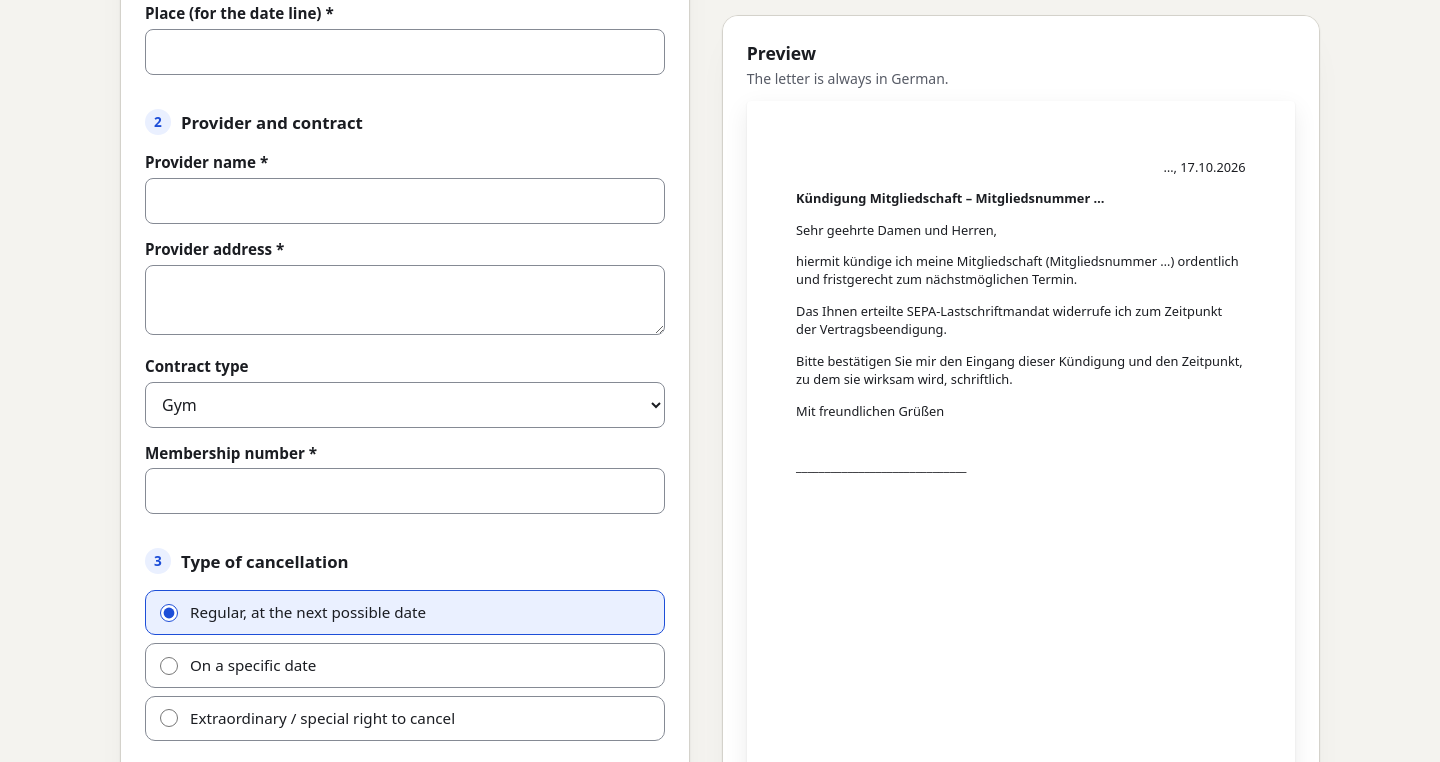
Test: names the contract number field after the contract type, in both languages
(page scrolled)
Check: the field labelled "Membership number" is shown, box [145,468,665,514]
Select "Insurance" in the dropdown labelled "Contract type" at x=405, y=405, box [145,382,665,428]
(page scrolled)
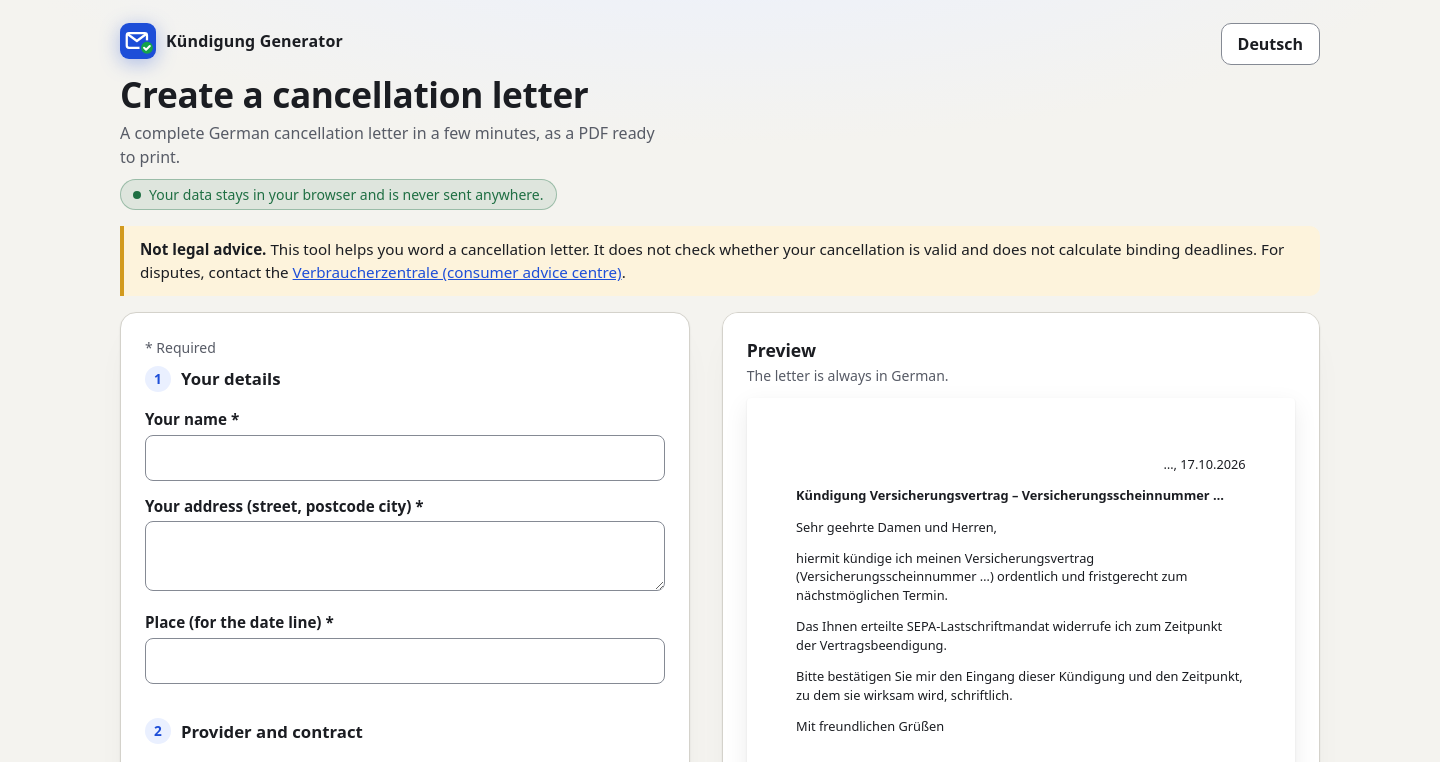
Click the button "Deutsch" at x=1270, y=44, box [1220,23,1320,65]
(page scrolled)
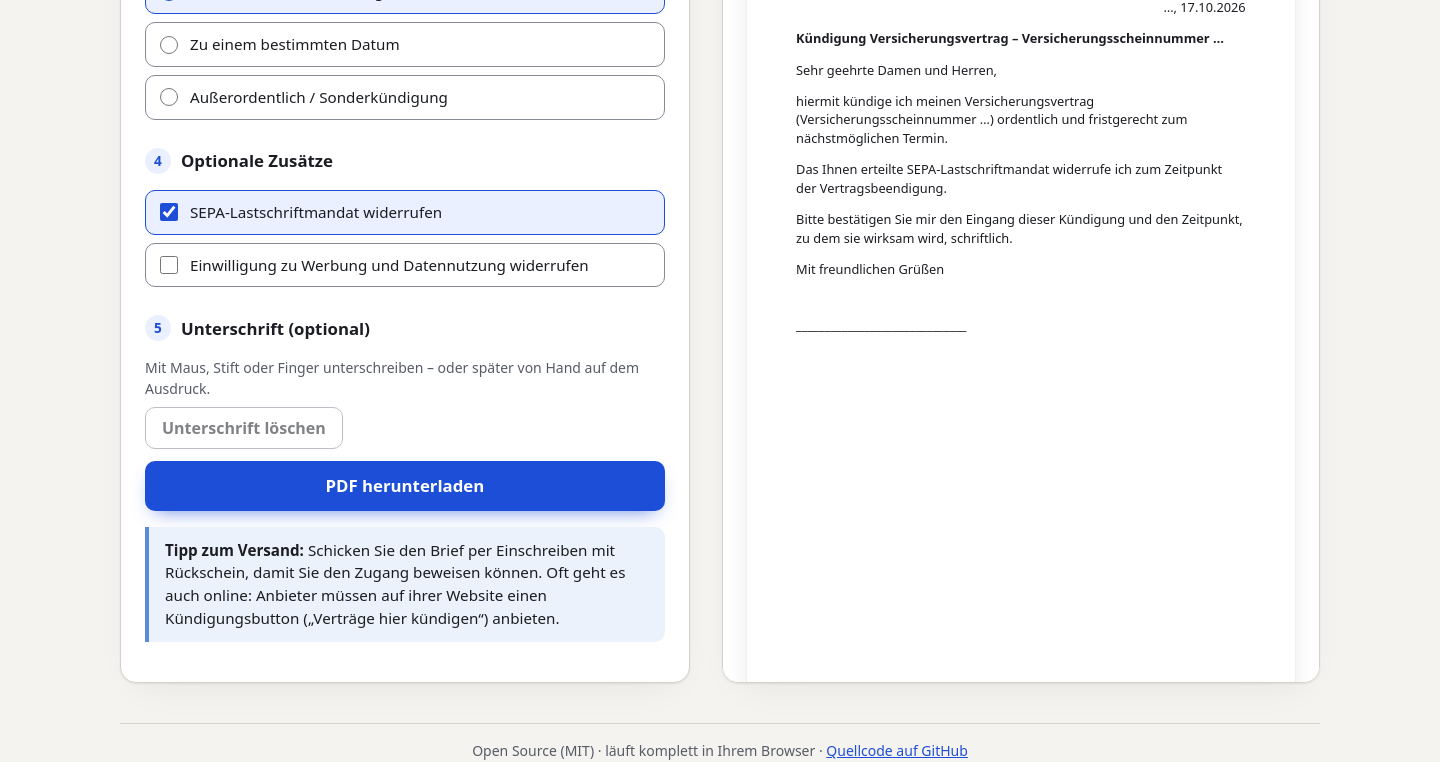
Click the button "PDF herunterladen" at x=405, y=486, box [145,461,665,511]
(page scrolled)
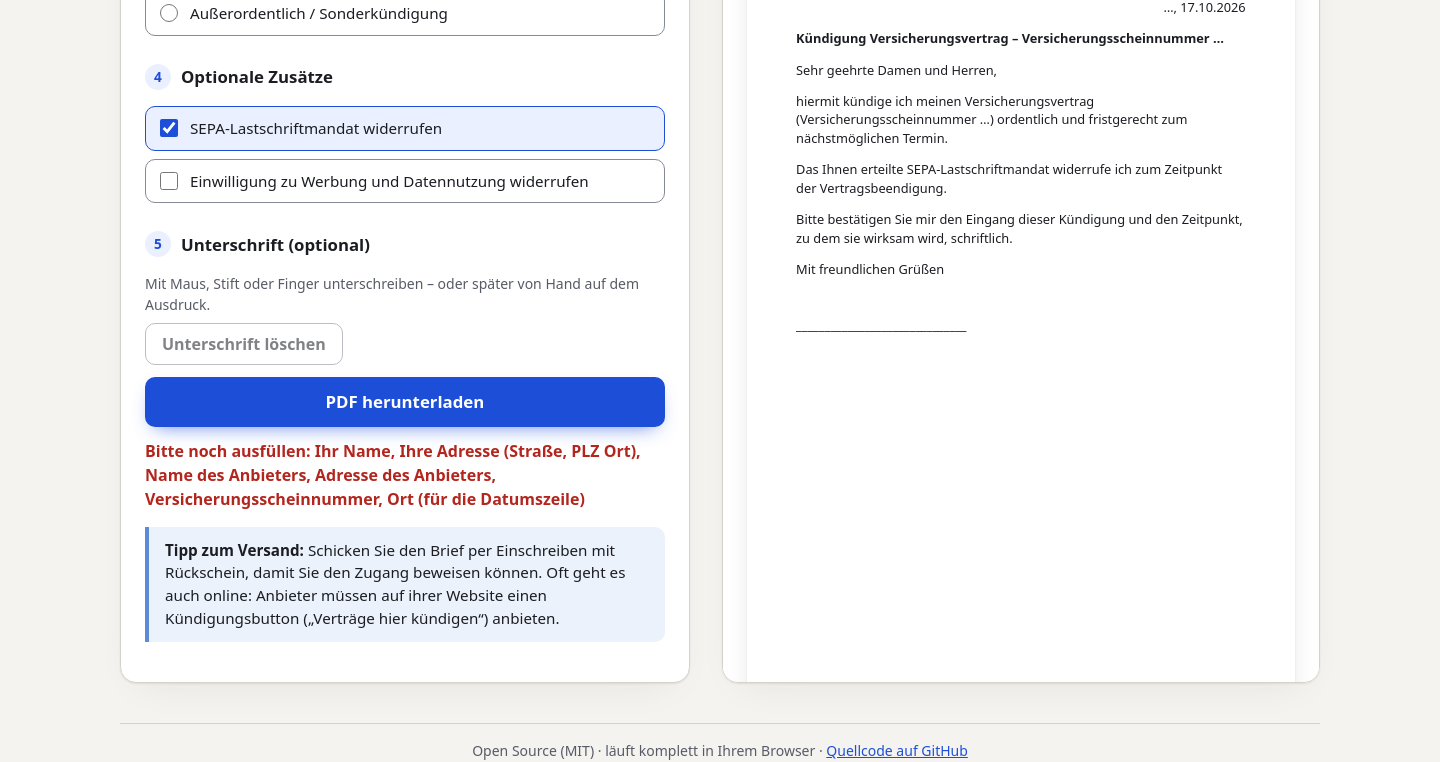
Check: the message shows "Versicherungsscheinnummer", box [145,440,641,510]
